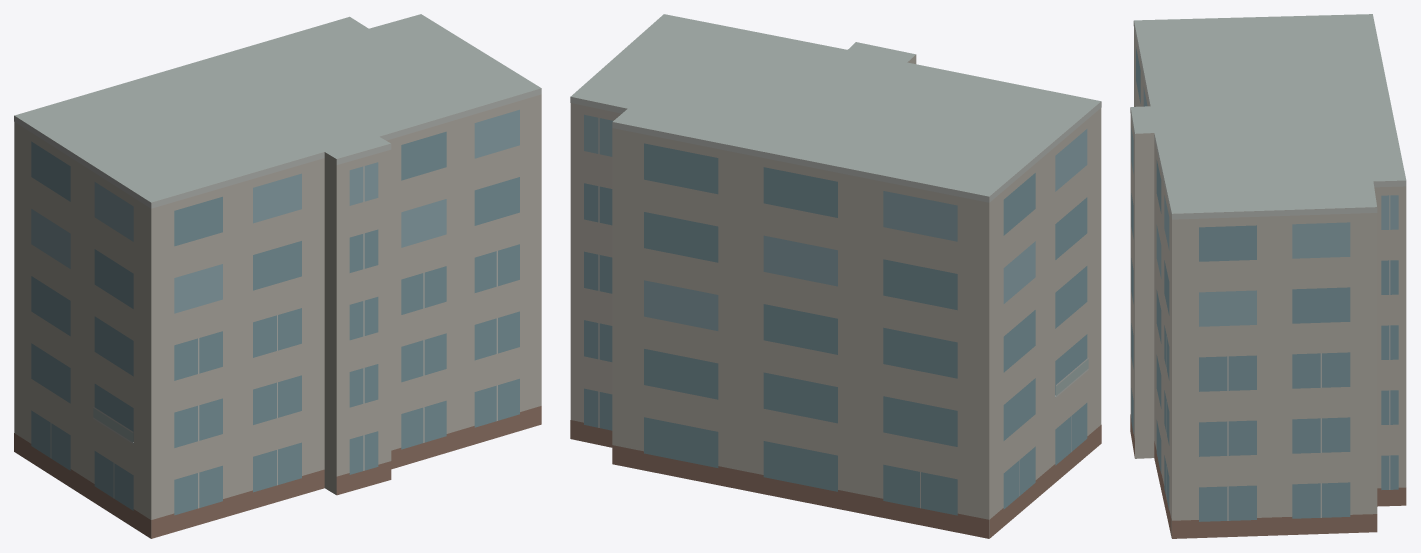
The model's file is survey-upis-32755807.glb.
3 renders of one model, left to right at view 1: azimuth 30°, elevation 25°; view 2: azimuth 150°, elevation 25°; view 3: azimuth 270°, elevation 25°, orthographic. The views are drawn at different scales.
Parts seen in each view (by area): view 1: survey-upis-32755807.tmp; view 2: survey-upis-32755807.tmp; view 3: survey-upis-32755807.tmp.
Part boxes in pixels (x1=…): survey-upis-32755807.tmp: x1=14, y1=14, x2=541, y2=538; survey-upis-32755807.tmp: x1=570, y1=14, x2=1101, y2=538; survey-upis-32755807.tmp: x1=1130, y1=14, x2=1406, y2=538.
Size of the model in its own units: 17.81 by 13.5 by 10.39.
